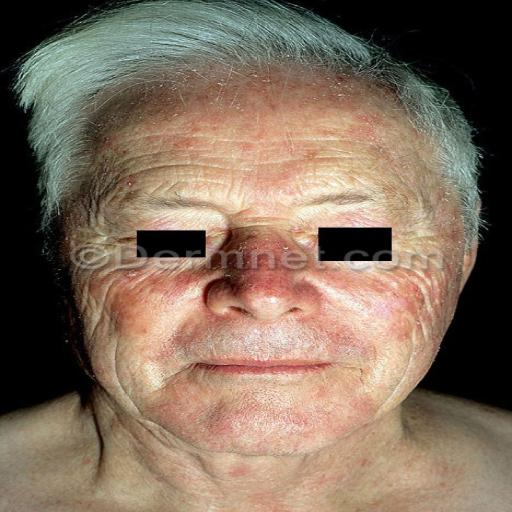Skin_Lesion: (272, 93, 375, 162), (138, 98, 249, 161), (216, 244, 311, 305), (100, 273, 135, 357), (311, 310, 369, 356), (373, 278, 448, 312), (204, 378, 242, 438), (148, 270, 210, 306), (271, 403, 327, 441), (229, 458, 250, 485), (393, 316, 412, 343)
